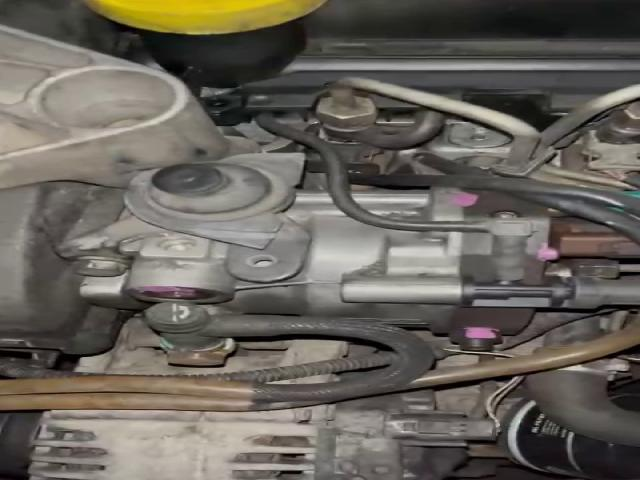alternator: (29, 412, 318, 480)
high_pressure_pump: (82, 188, 638, 350)
